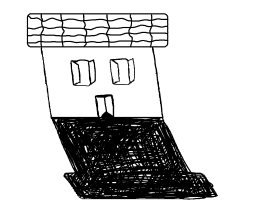door: (92, 90, 117, 122)
open_window: (69, 55, 101, 89), (108, 54, 138, 88)
roof: (23, 9, 171, 51)
shadow: (50, 114, 220, 205)
wall: (40, 43, 163, 121)
